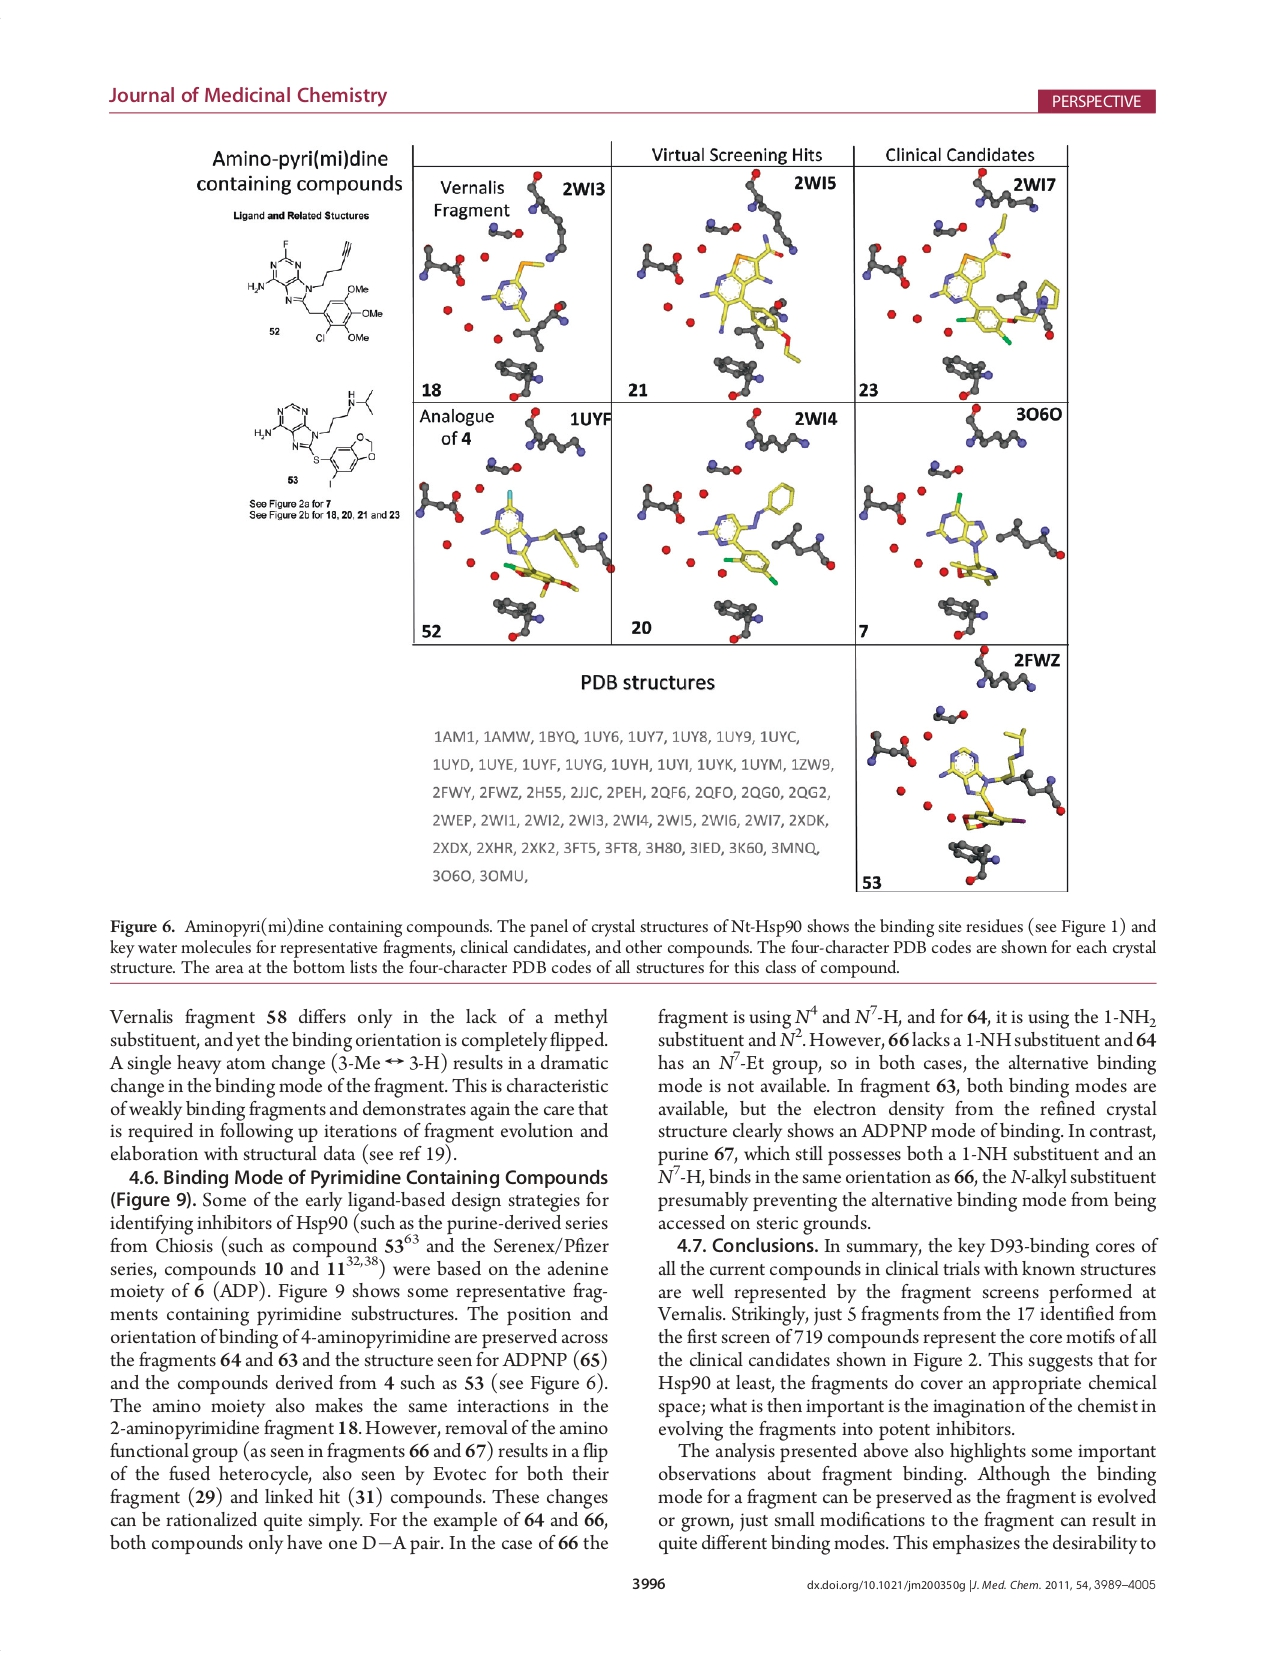exist_molecular: (243, 237, 387, 346), (249, 386, 382, 489)
